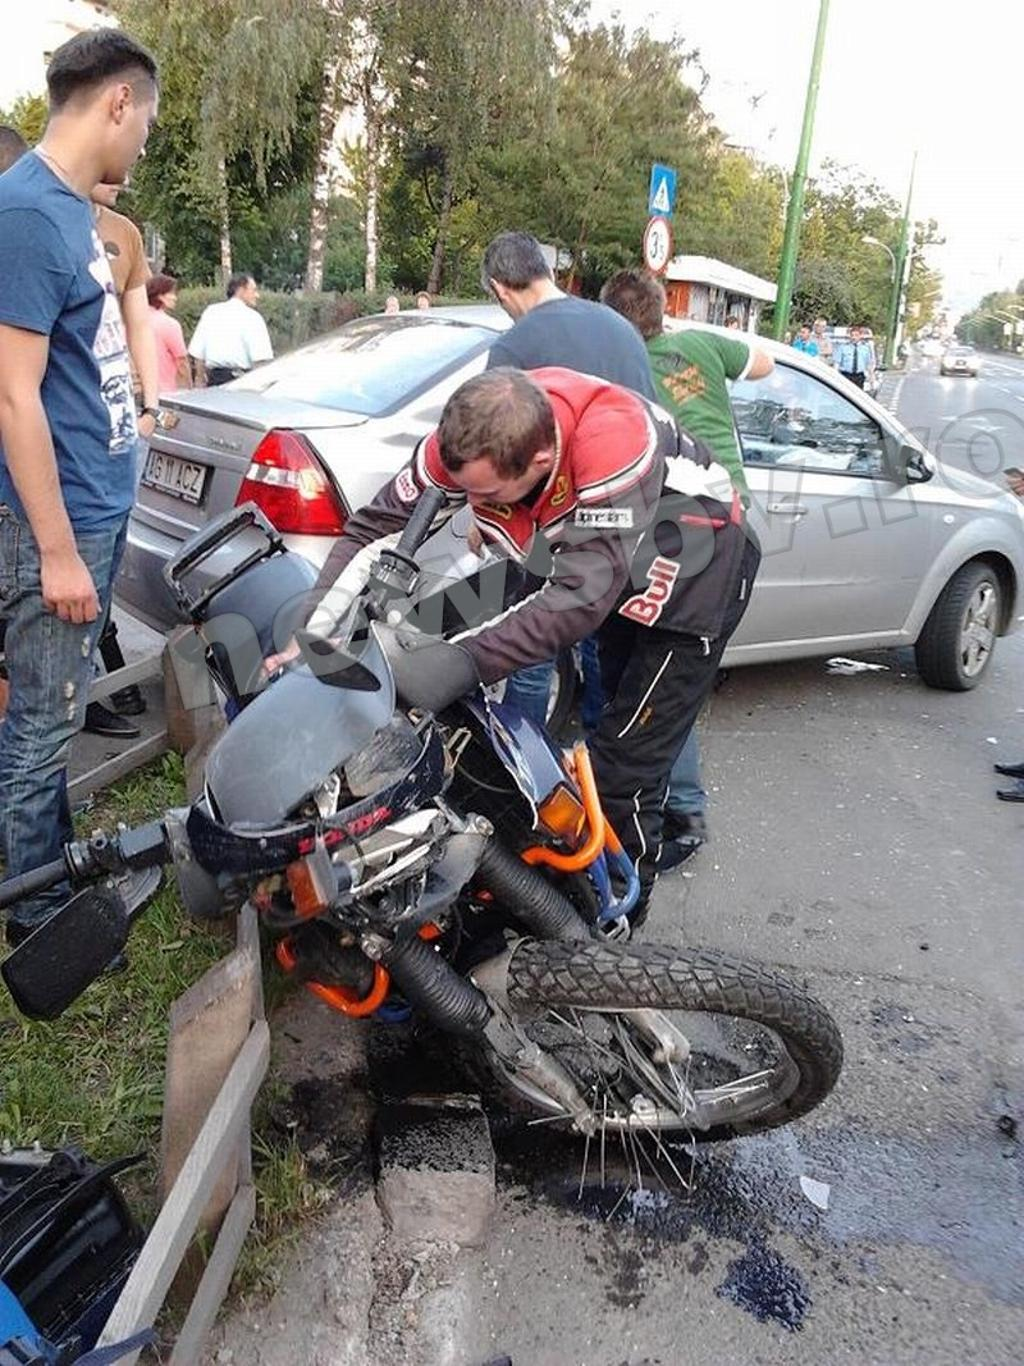face: (100, 89, 160, 180), (451, 467, 541, 508), (242, 282, 260, 307), (160, 288, 177, 309), (387, 302, 399, 316), (816, 321, 827, 333), (419, 299, 429, 312), (852, 332, 860, 343), (730, 324, 738, 334), (802, 329, 810, 340)
